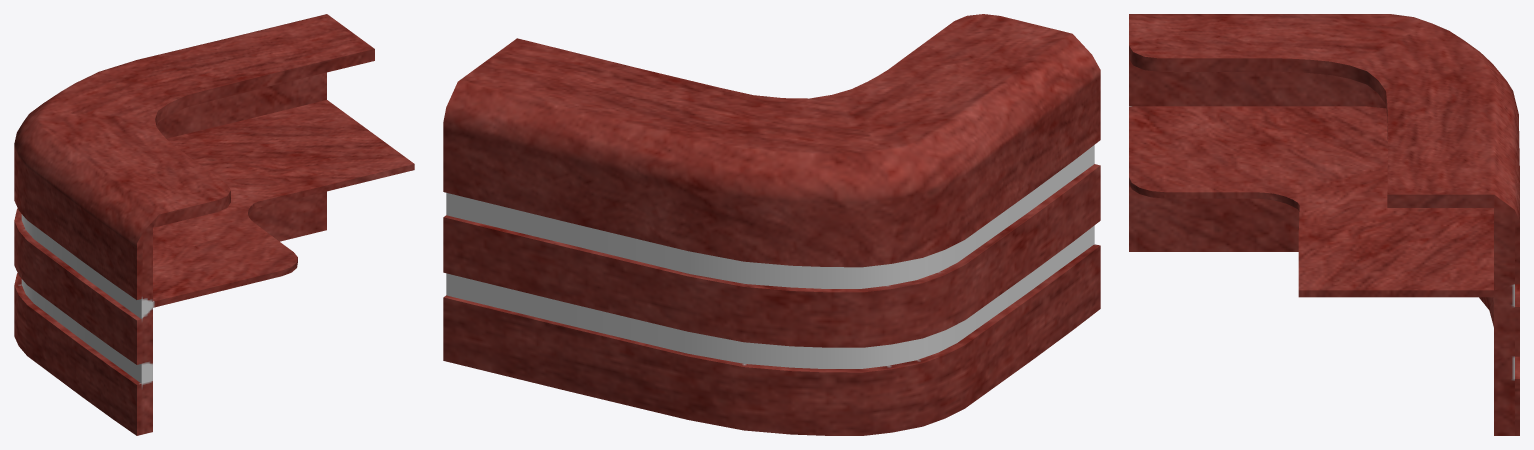
File: ReceptionDesk_Corner_End_Left.glb
3 renders of one model, left to right at view 1: azimuth 30°, elevation 25°; view 2: azimuth 150°, elevation 25°; view 3: azimuth 270°, elevation 25°, orthographic. The views are drawn at different scales.
Parts seen in each view (by area): view 1: LeftCurveDesk; view 2: LeftCurveDesk; view 3: LeftCurveDesk.
Part boxes in pixels (<box>): LeftCurveDesk: <box>14,14,414,435</box>; LeftCurveDesk: <box>443,14,1100,435</box>; LeftCurveDesk: <box>1129,14,1519,435</box>.
Bounding box in the file's own units: 1.85 × 1.08 × 1.58.
1 material, 1 textured.
